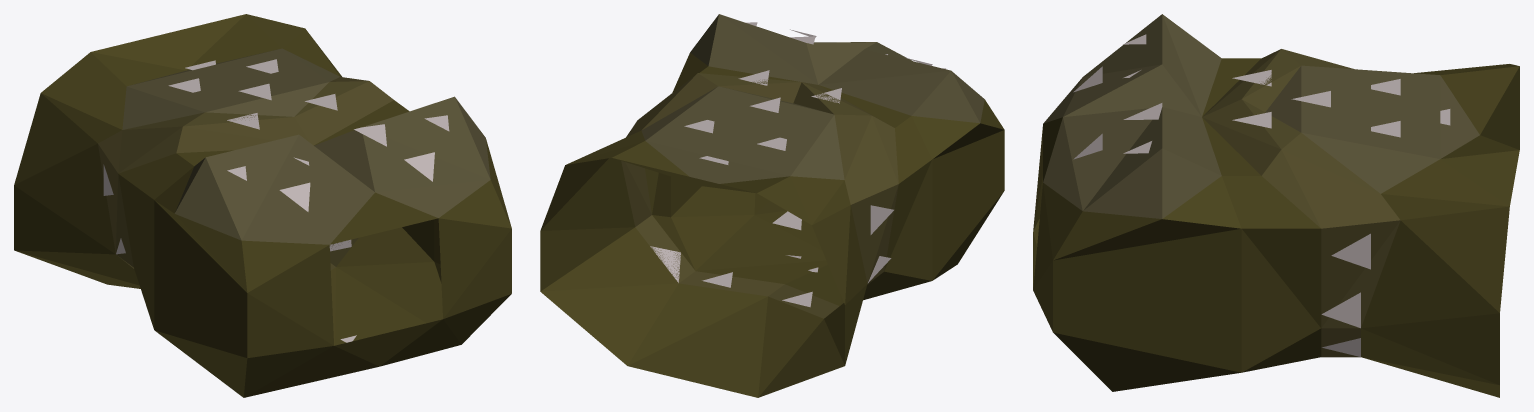
The model's file is inv_studded_body.obj.
3 renders of one model, left to right at view 1: azimuth 30°, elevation 25°; view 2: azimuth 150°, elevation 25°; view 3: azimuth 270°, elevation 25°, orthographic. The views are drawn at different scales.
Size of the model in its own units: 0.3281 by 0.2422 by 0.3828.
